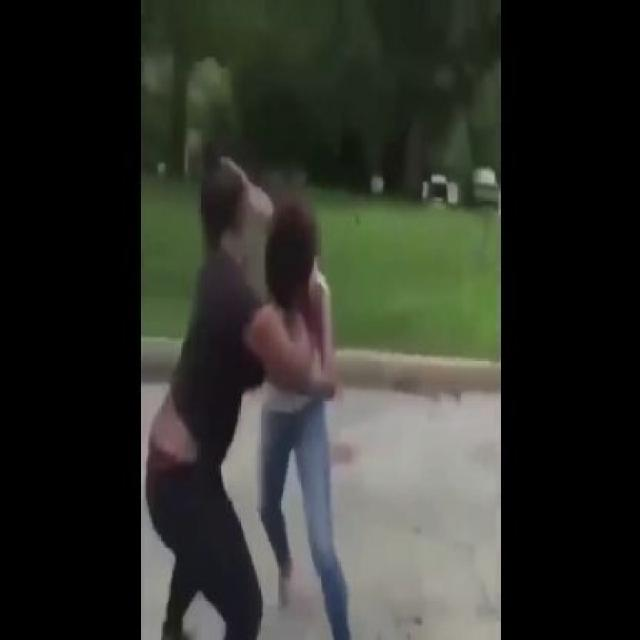fight: (134, 142, 368, 638)
